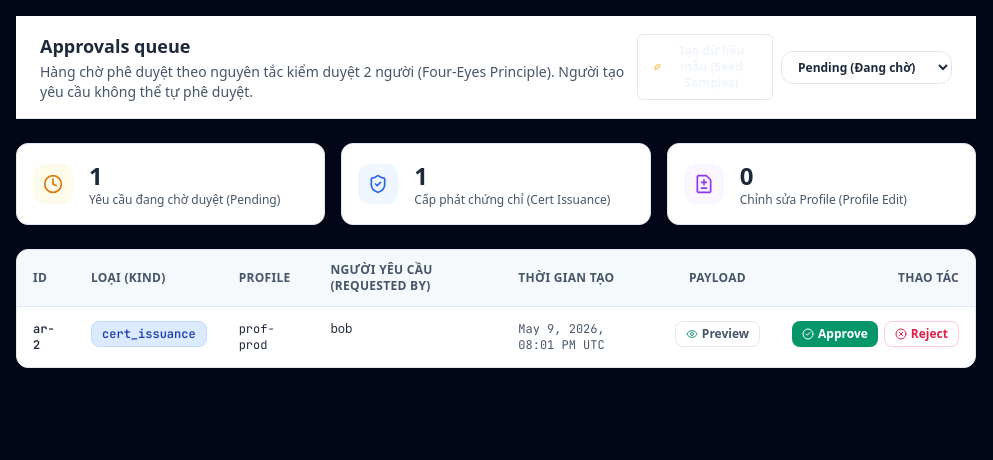
Test case: ApprovalsPage › A-5 Malformed base64 payload renders the decode-error fallback
Click the button with test id "approvals-preview-toggle-ar-2" at {"x": 717, "y": 334}, box x1=675 y1=321 x2=760 y2=347
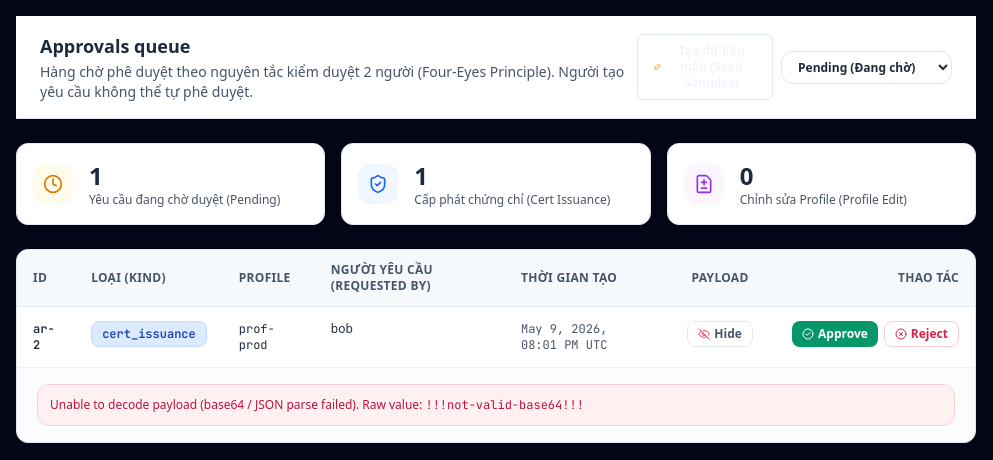
Expected: the element with test id "approval-payload-decode-error" is shown, x1=37 y1=384 x2=955 y2=426
